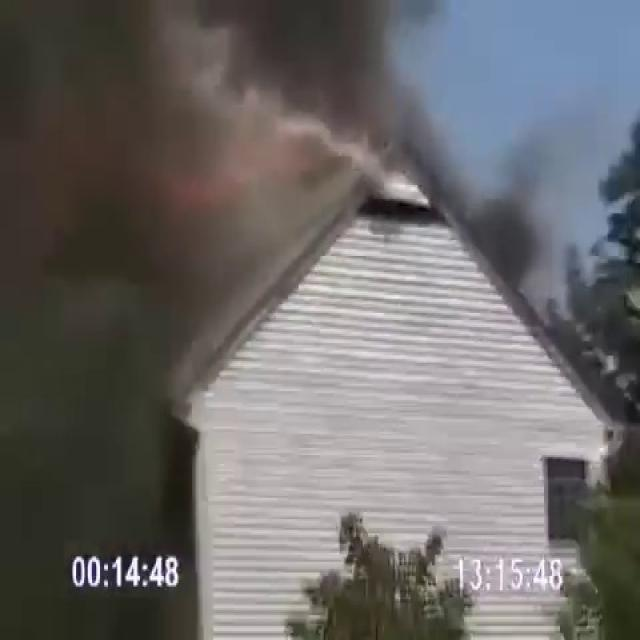Smoke: (2, 0, 480, 210), (474, 108, 594, 278)
